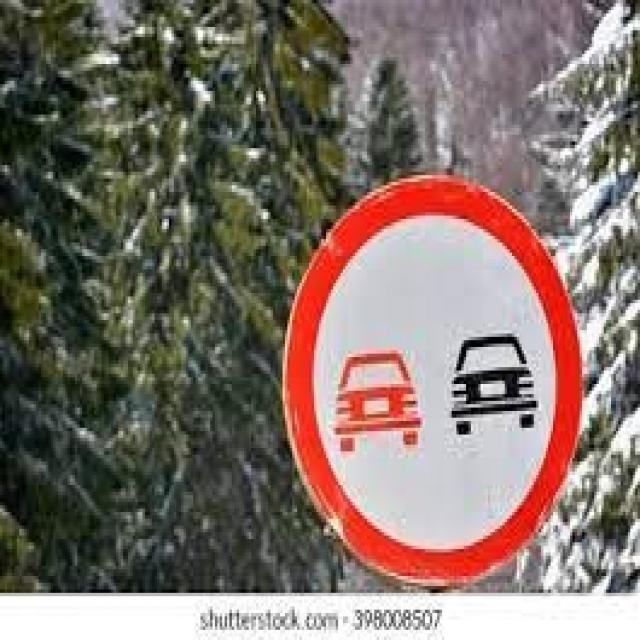no_passing: (282, 164, 590, 593)
